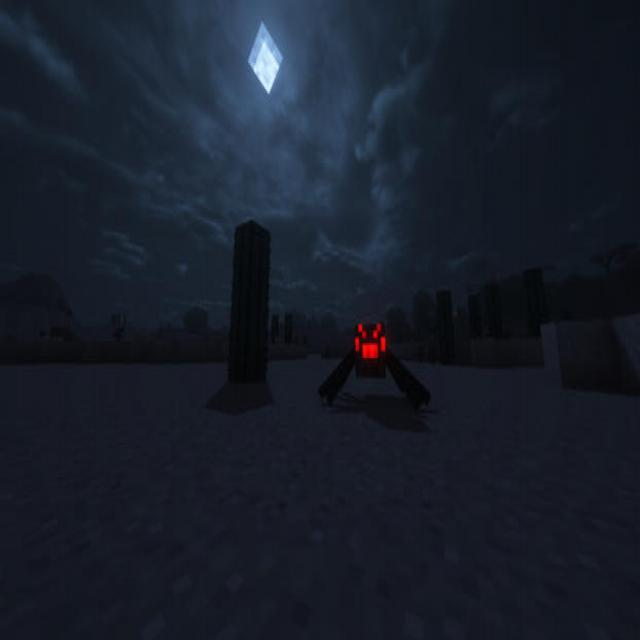Spider: (318, 315, 432, 412)
